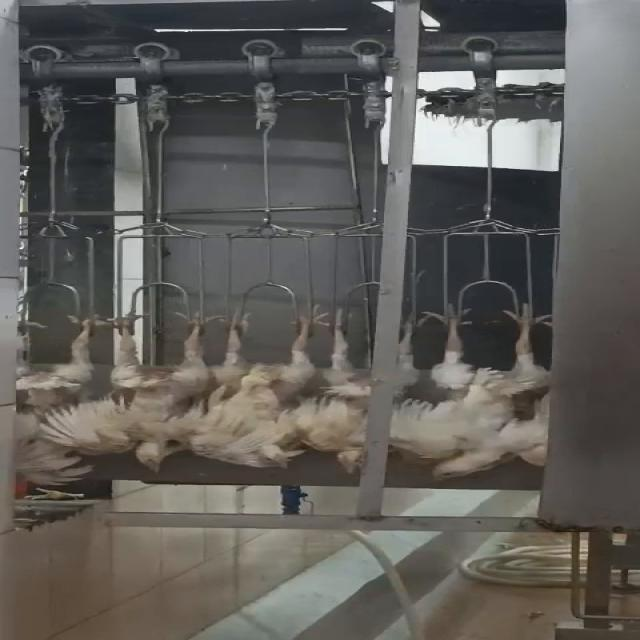chicken: (85, 297, 254, 476), (394, 306, 546, 483), (0, 304, 131, 489), (196, 302, 326, 470), (297, 302, 384, 474)
